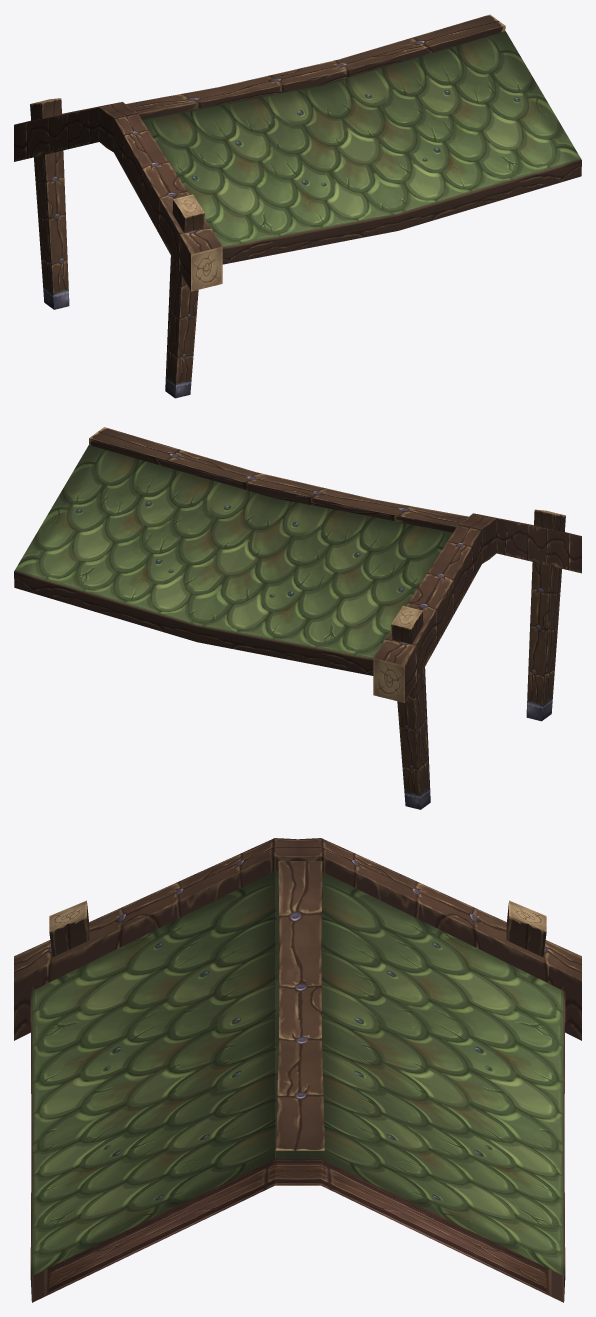
The model's file is big_roof_04.fbx.
3 renders of one model, top to bottom at view 1: azimuth 30°, elevation 25°; view 2: azimuth 150°, elevation 25°; view 3: azimuth 270°, elevation 25°, orthographic. The views are drawn at different scales.
Visible parts, largest first — view 1: big_roof_04; view 2: big_roof_04; view 3: big_roof_04.
Part boxes in pixels (<box>): big_roof_04: <box>14,14,581,398</box>; big_roof_04: <box>14,427,581,809</box>; big_roof_04: <box>14,838,581,1302</box>.
Size of the model in its own units: 11.82 by 6.8 by 9.15.
